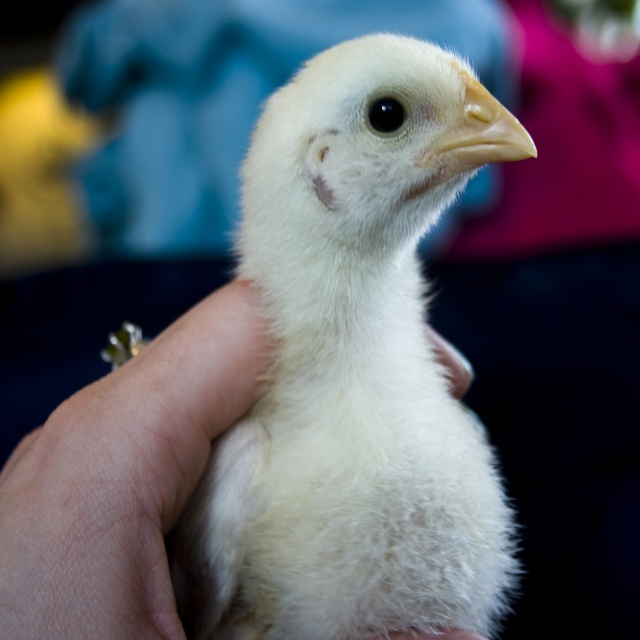Chicken: (166, 16, 536, 627)
